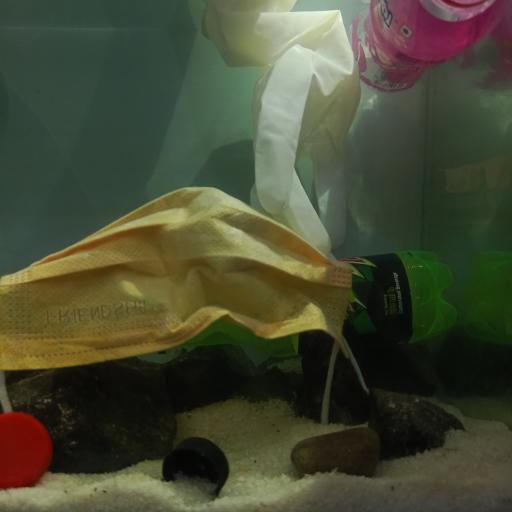bottle_cap: (163, 436, 230, 501), (1, 412, 52, 487)
glove: (199, 4, 359, 260)
mask: (1, 187, 359, 384)
plastic_bottle: (155, 248, 459, 352), (353, 0, 499, 98)
